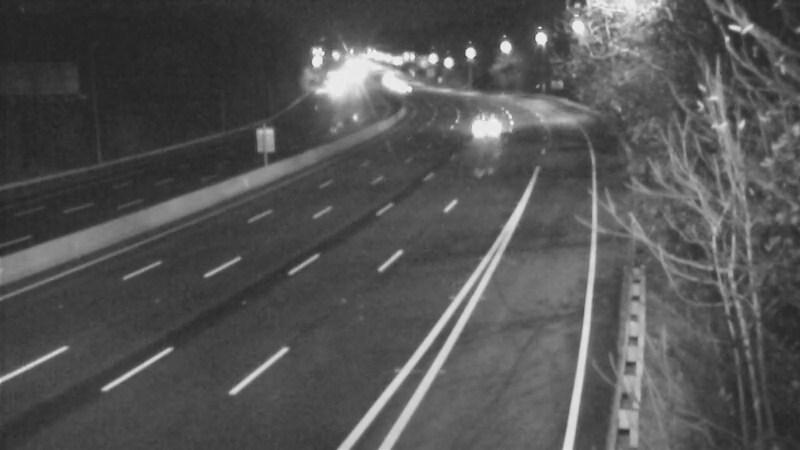vehicle: (465, 99, 515, 149)
